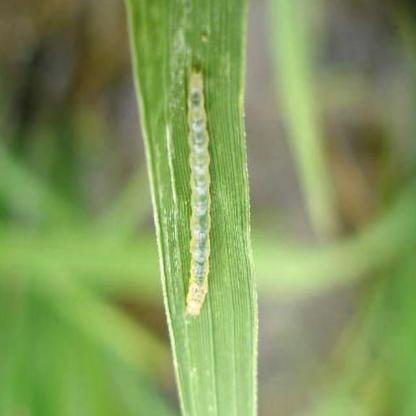leaf-folder: (154, 47, 232, 351)
